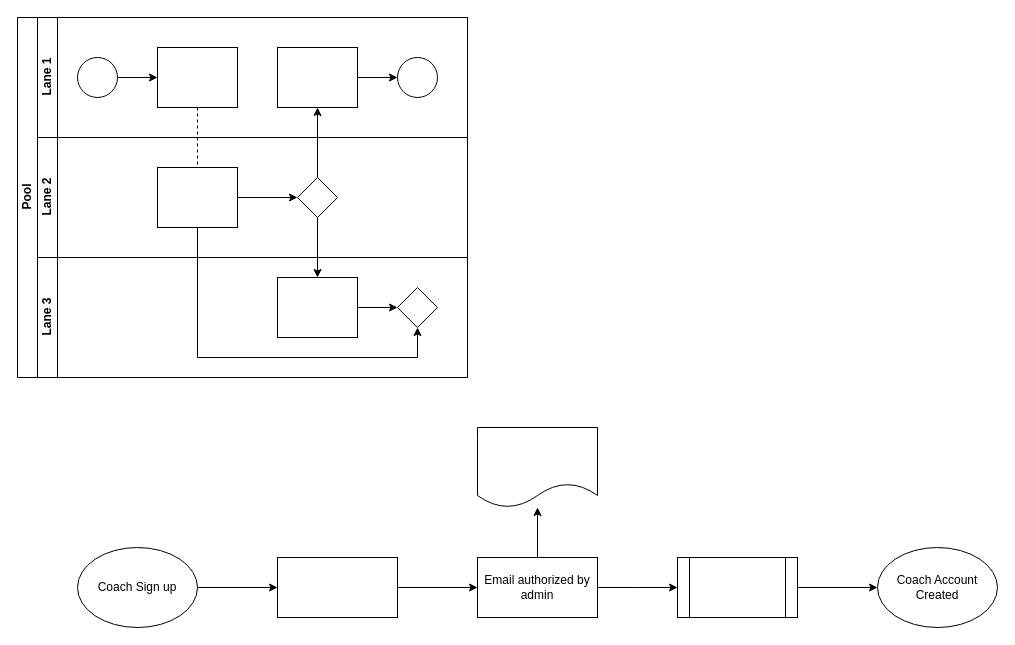
Some shapes in this 1015 by 645 pixel diagram are drawn without their labels. The shapes that lost their labels are listed below. From the top down, each one's centre as x and y in pixels, then its label:
At (x=537, y=467): "Verification Email for Admin".
At (x=337, y=587): "Email insert".
At (x=737, y=587): "Account Information".
